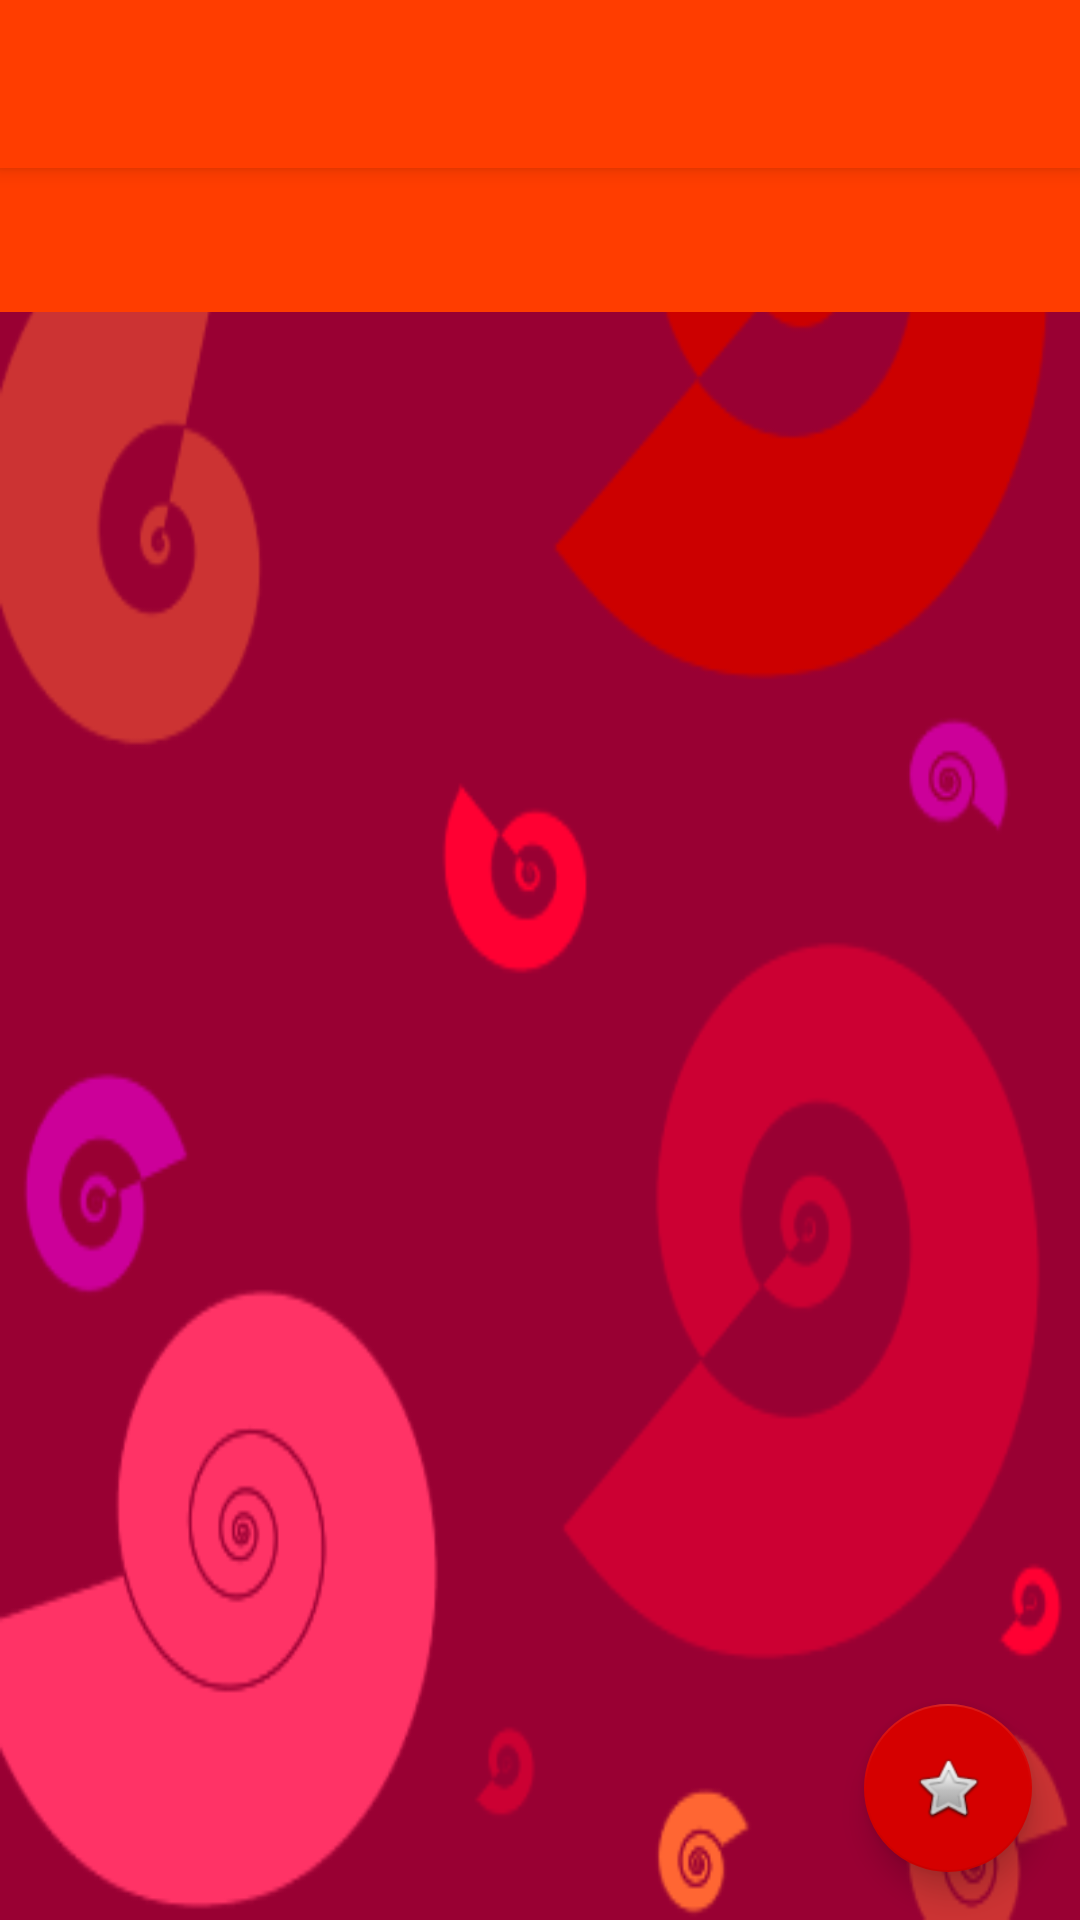

Screen size 1080px x 1920px. Icon name, then its box in pixels as (x1,y1,x2,y2):
star off: (864,1704,1032,1872)
